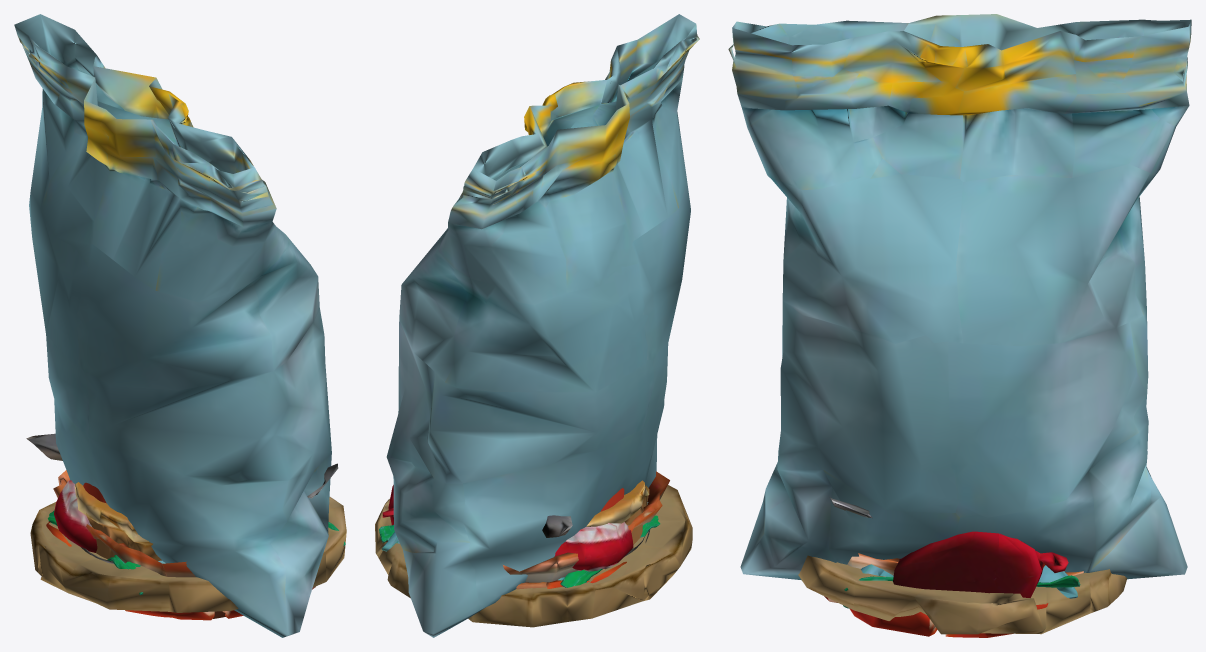
File: plats.glb
3 views of the same model, side by side, from view 1: azimuth 30°, elevation 25°; view 2: azimuth 150°, elevation 25°; view 3: azimuth 270°, elevation 25° (orthographic). The views are drawn at different scales.
Parts seen in each view (by area): view 1: sac-poubelle, pierre-pizza, gateau, maniques, plat-four, pizza, passoire; view 2: sac-poubelle, pierre-pizza, maniques, plat-four, gateau, legumes-surgeles, passoire; view 3: sac-poubelle, pierre-pizza, maniques, pizza, legumes-surgeles.
Boxes of the visible parts, x1,y1,x2,y2 form: sac-poubelle: (14,14,331,637); pierre-pizza: (30,497,346,612); gateau: (74,482,161,560); maniques: (54,480,97,552); plat-four: (53,470,195,577); pizza: (46,521,315,620); passoire: (26,433,338,498); sac-poubelle: (386,14,699,637); pierre-pizza: (375,485,692,627); maniques: (382,485,633,571); plat-four: (503,471,669,582); gateau: (586,480,649,544); legumes-surgeles: (379,502,660,587); passoire: (542,515,572,537); sac-poubelle: (728,14,1191,580); pierre-pizza: (798,555,1127,634); maniques: (893,531,1068,597); pizza: (824,596,1048,637); legumes-surgeles: (843,564,1080,608).
Bounding box in the file's own units: 0.2971 × 0.4992 × 0.3983.
Materials: 35 (35 with a texture image).
